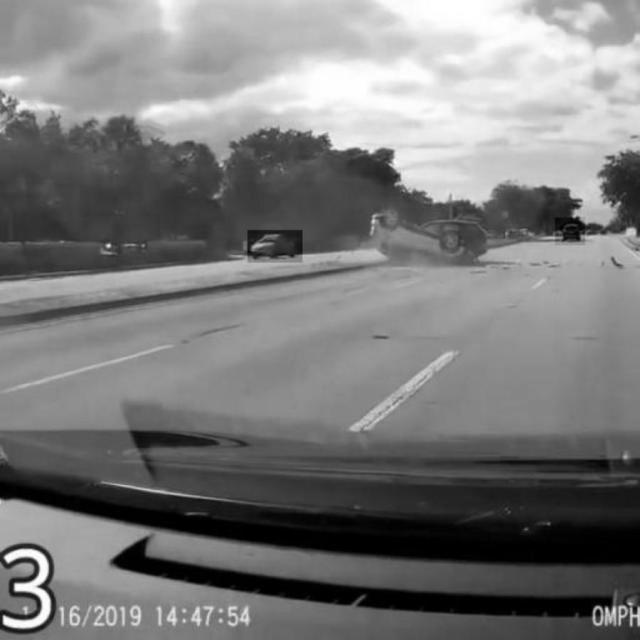accident: (364, 205, 498, 267)
vehicle: (247, 230, 303, 262), (555, 218, 585, 245)
